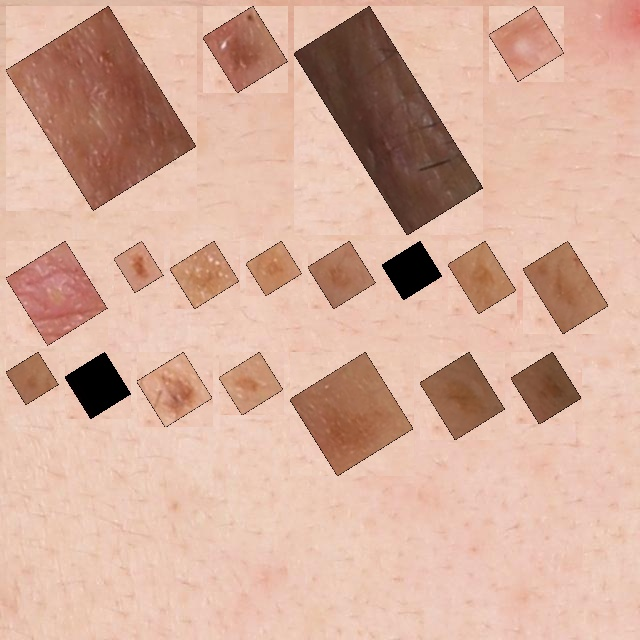hypertrophic_scar: (305, 17, 472, 224), (17, 17, 185, 199)
melasma: (301, 363, 402, 464), (534, 252, 597, 323), (431, 363, 494, 429), (522, 363, 570, 413), (459, 252, 505, 302), (181, 252, 228, 297), (319, 252, 364, 297), (76, 363, 120, 407), (230, 363, 272, 404), (393, 252, 431, 289), (257, 252, 291, 284), (17, 363, 47, 393)
nevus: (214, 17, 276, 81), (125, 252, 152, 281)
pustule: (17, 252, 96, 334)
